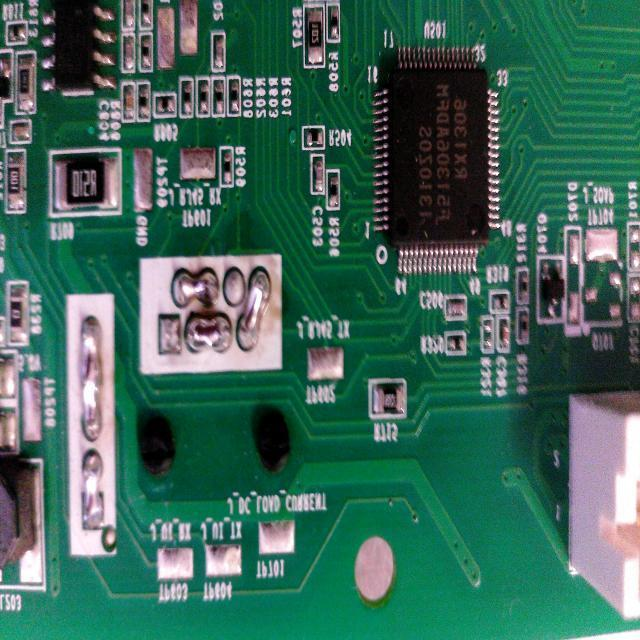Soldering bridge: (238, 260, 270, 362), (82, 316, 104, 443), (169, 262, 219, 310), (182, 311, 234, 355), (82, 446, 104, 532)
